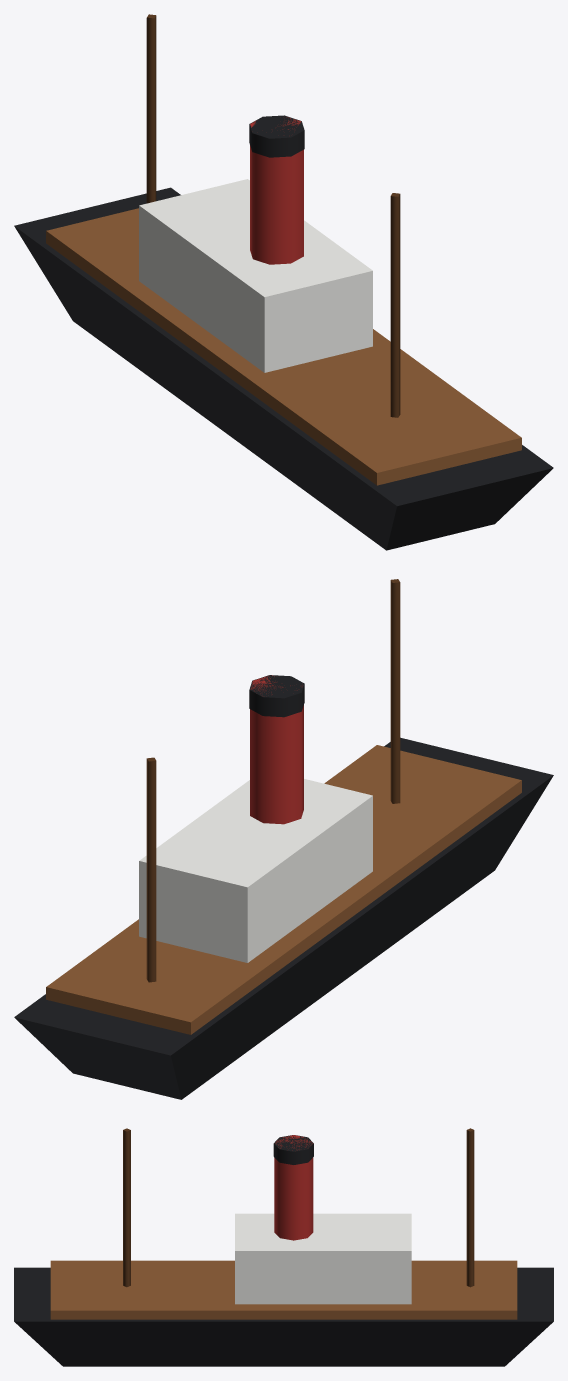
The model's file is vehicle_steamship.glb.
3 renders of one model, top to bottom at view 1: azimuth 30°, elevation 25°; view 2: azimuth 150°, elevation 25°; view 3: azimuth 270°, elevation 25°, orthographic. The views are drawn at different scales.
Visible parts, largest first — view 1: vehicle_steamship; view 2: vehicle_steamship; view 3: vehicle_steamship.
Boxes of the visible parts, left/top/right/bottom form: vehicle_steamship: left=14, top=14, right=553, bottom=550; vehicle_steamship: left=14, top=579, right=553, bottom=1099; vehicle_steamship: left=14, top=1128, right=553, bottom=1366.
Bounding box in the file's own units: 0.26 × 0.49 × 1.1.
